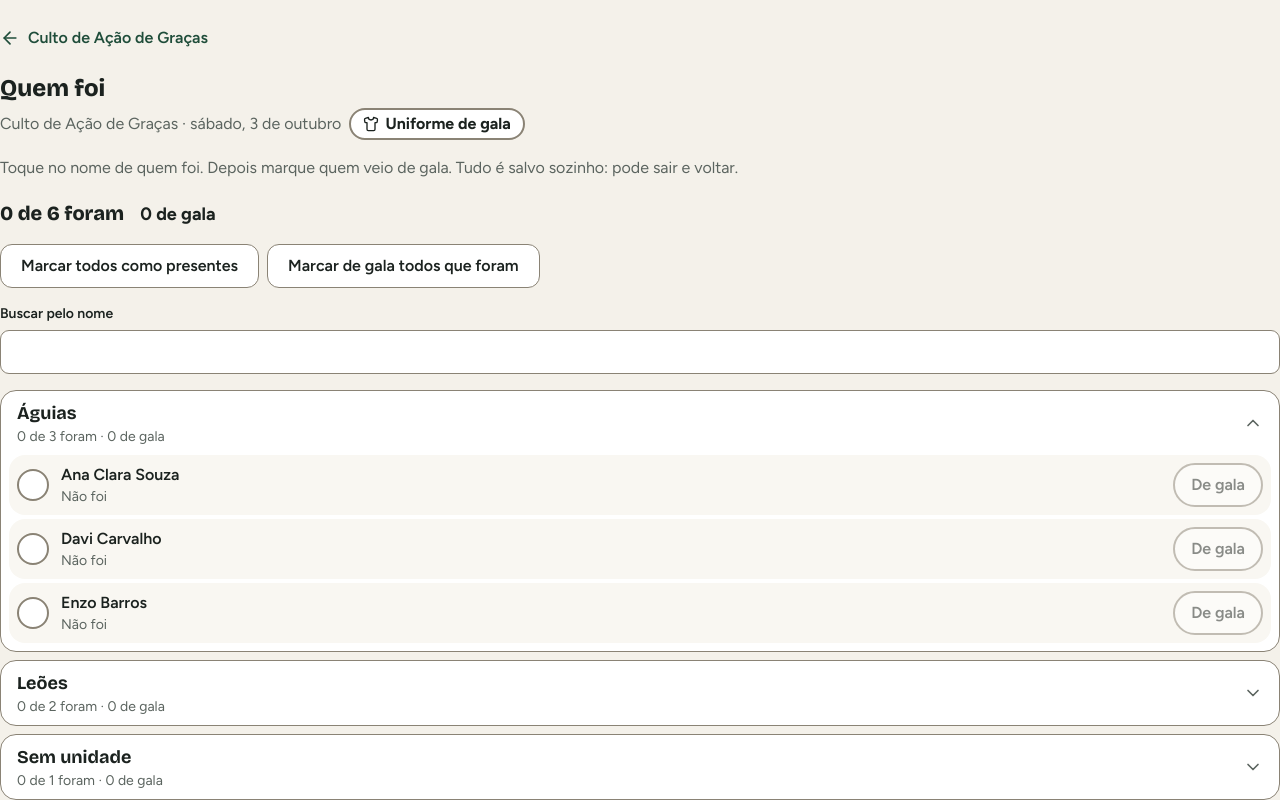
Test case: lista "Quem foi" no celular › a hora do "Salvo às" segue o fuso do clube
Expected: the text "Ana Clara Souza" is shown, 61,463 -> 179,487
Click the button "Ana Clara Souza Não foi": (33, 485) 17,463 -> 1165,507
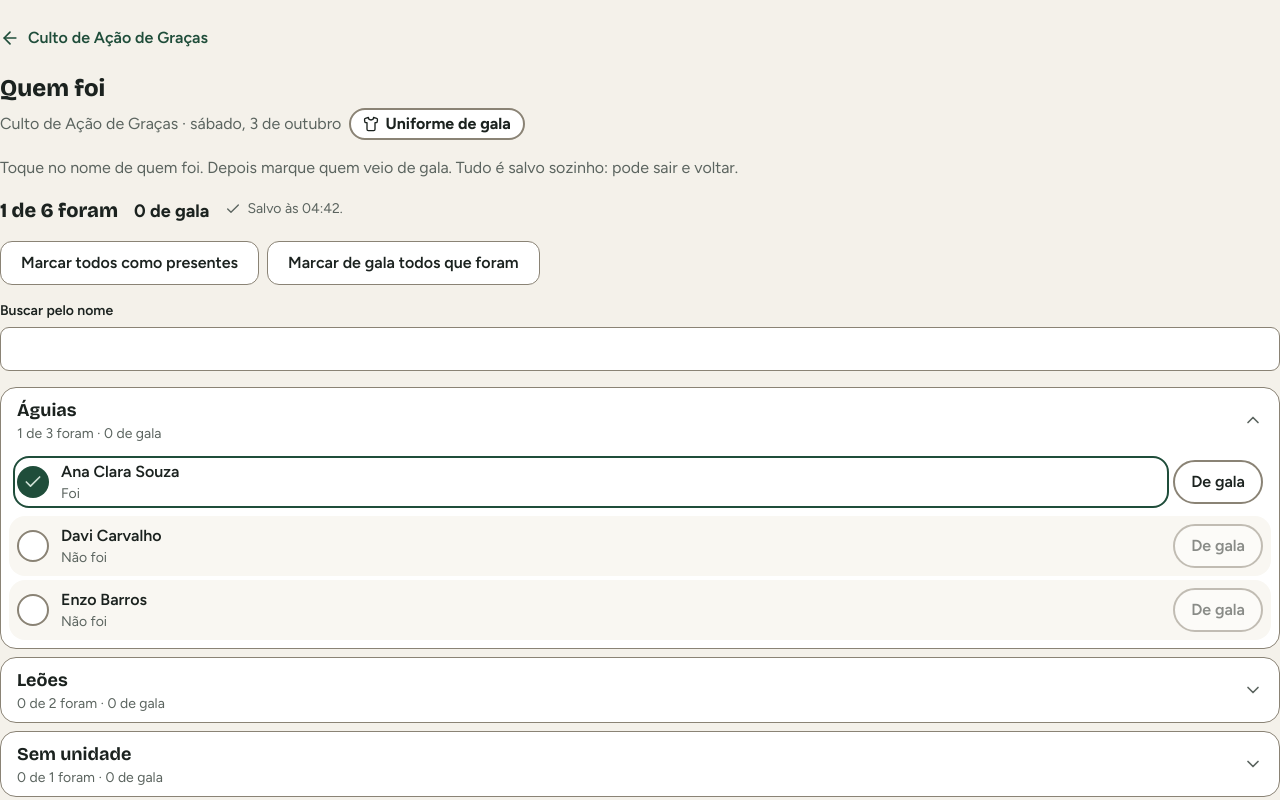
Now the text "Salvo às 04:42." is shown, box 225,197 -> 343,221
